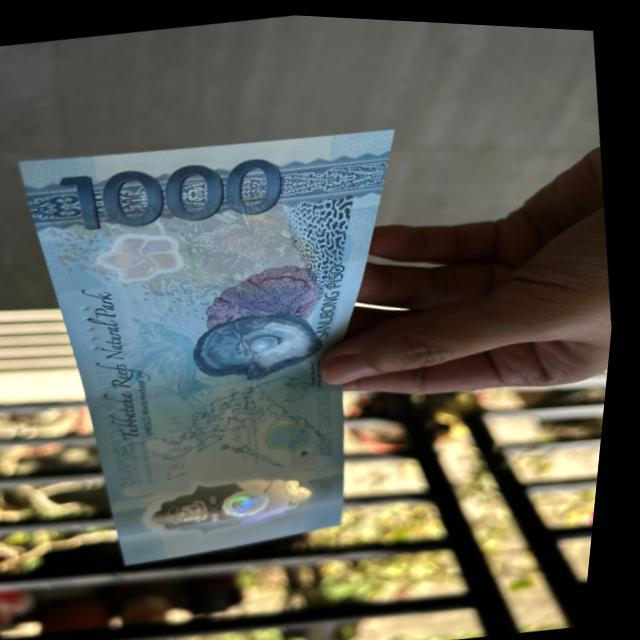clear_window: (144, 460, 342, 544)
sampaguita: (102, 220, 196, 298)
